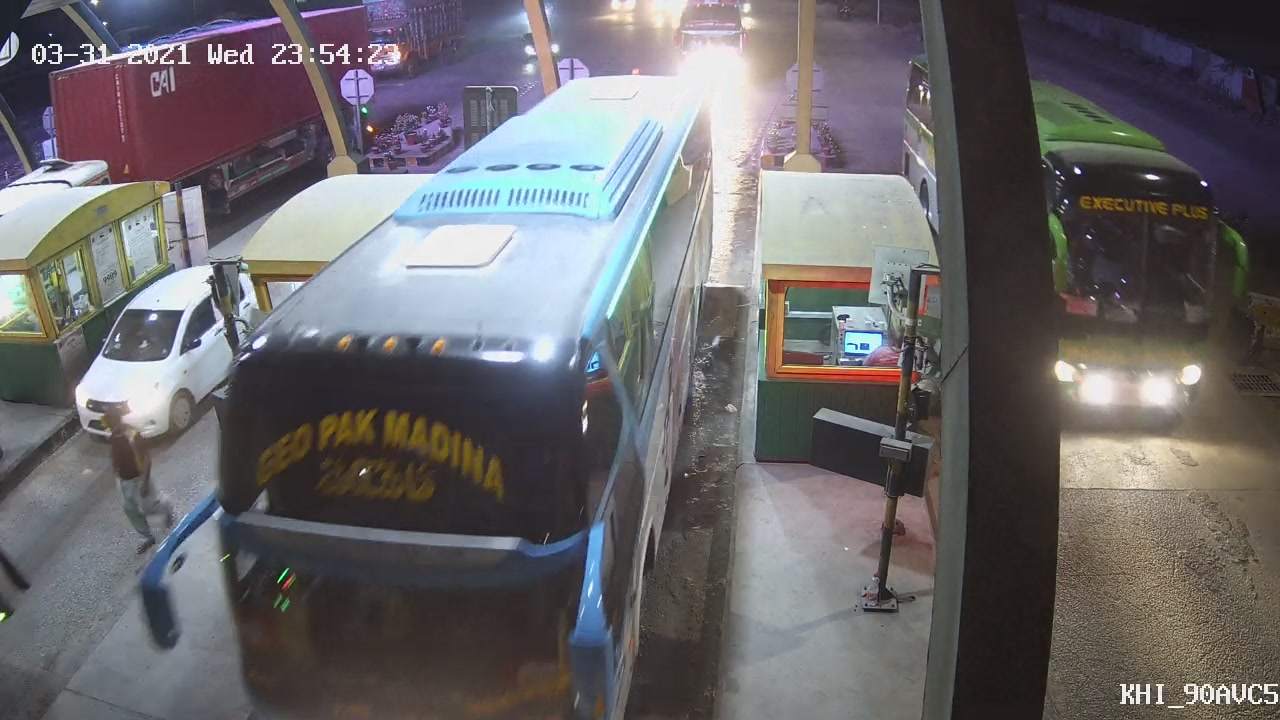F4: (171, 78, 746, 720)
